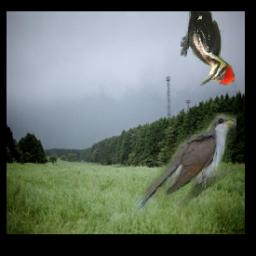Cuckoo: (134, 112, 236, 213)
Woodpecker: (181, 12, 235, 86)
